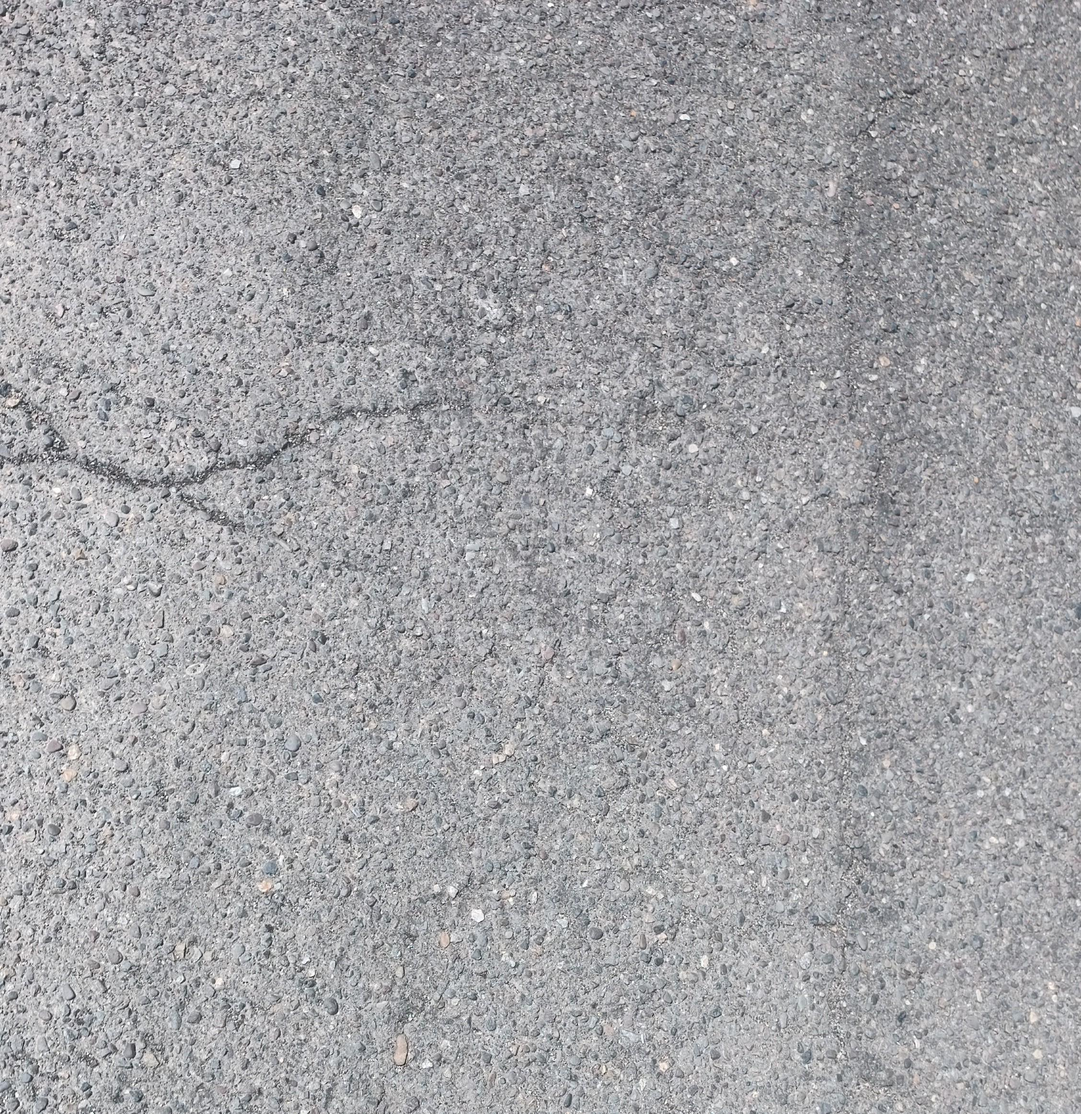GRIETA: (1, 379, 239, 493), (174, 494, 248, 535), (0, 449, 52, 465)
PIEL DE COCODRILO: (238, 0, 991, 1017)
